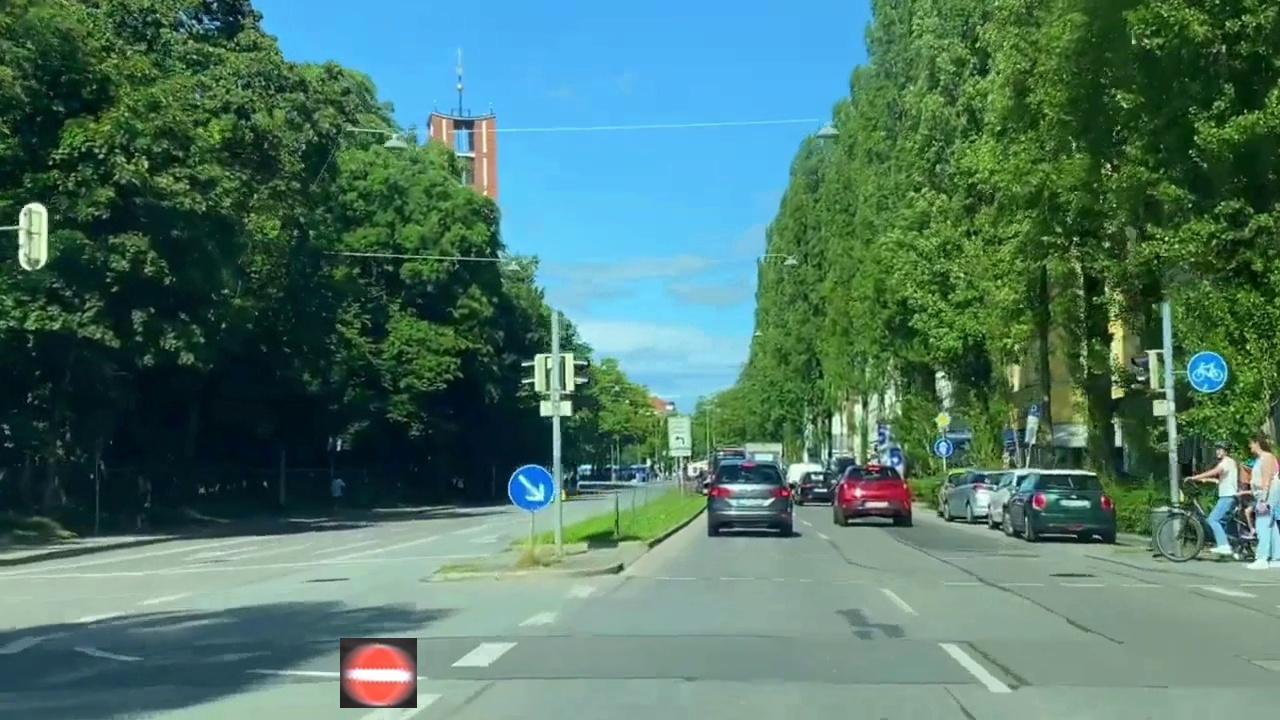No entry: (340, 638, 417, 708)
